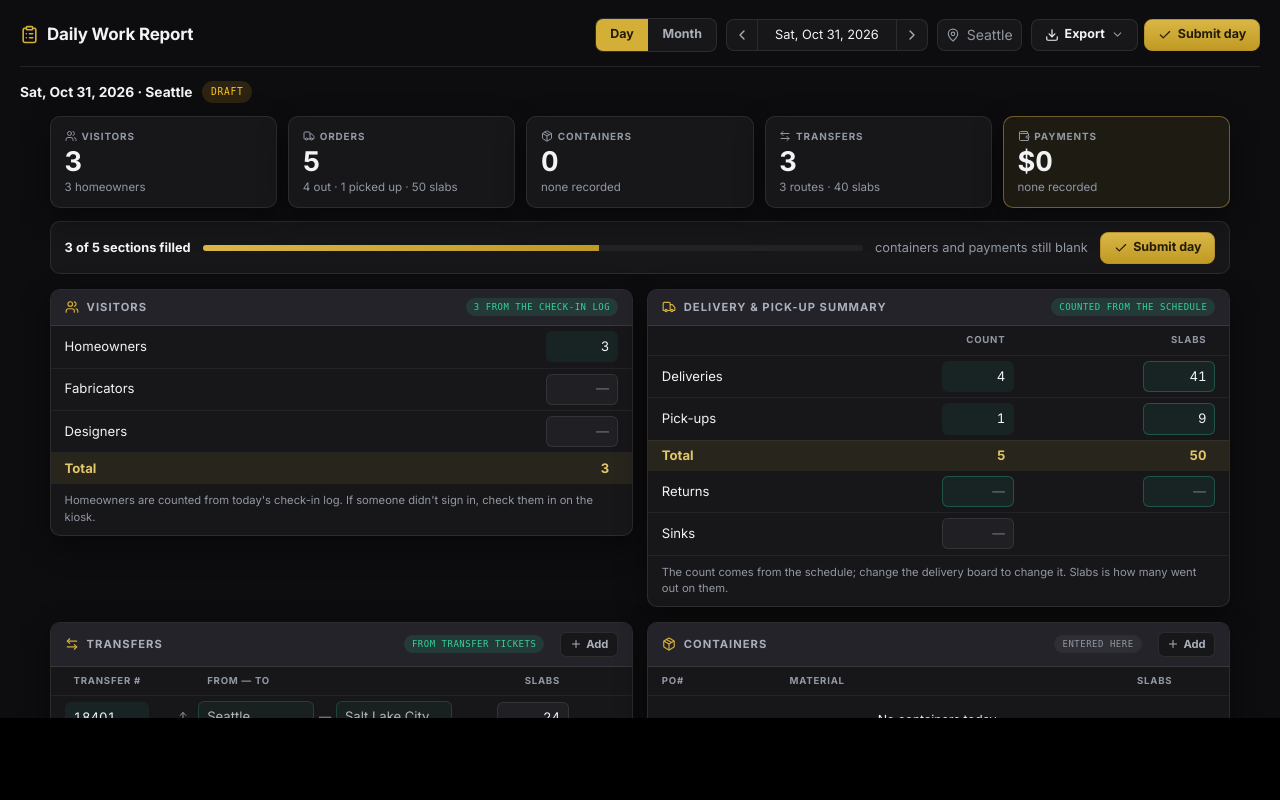
Test: Daily Report saves › Submit does not lock the day when its own save fails (O13)
The image size is (1280, 800).
Type "9" into the field named "Sinks" at (978, 534), box left=942, top=518, right=1014, bottom=550
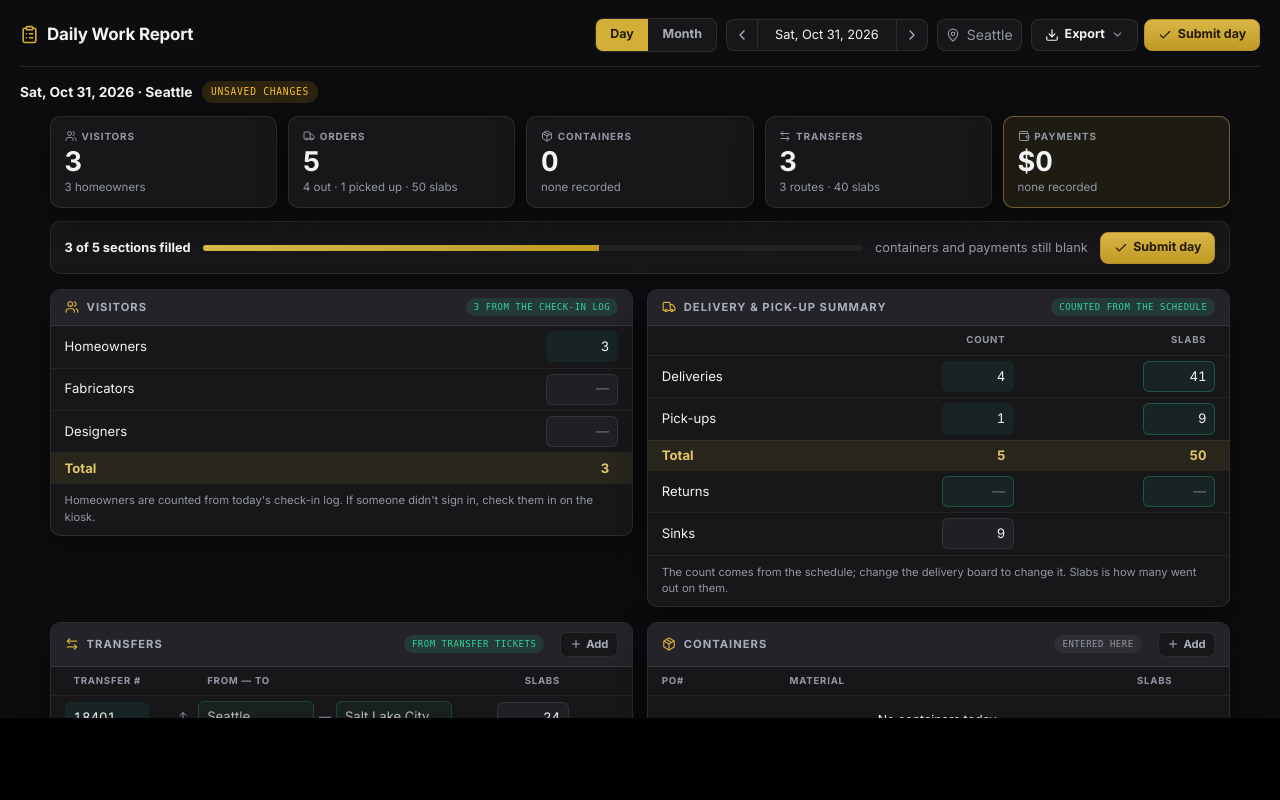
Click the button "Submit day" in the row of "Daily Work Report" at (1202, 35), box left=1144, top=19, right=1260, bottom=51
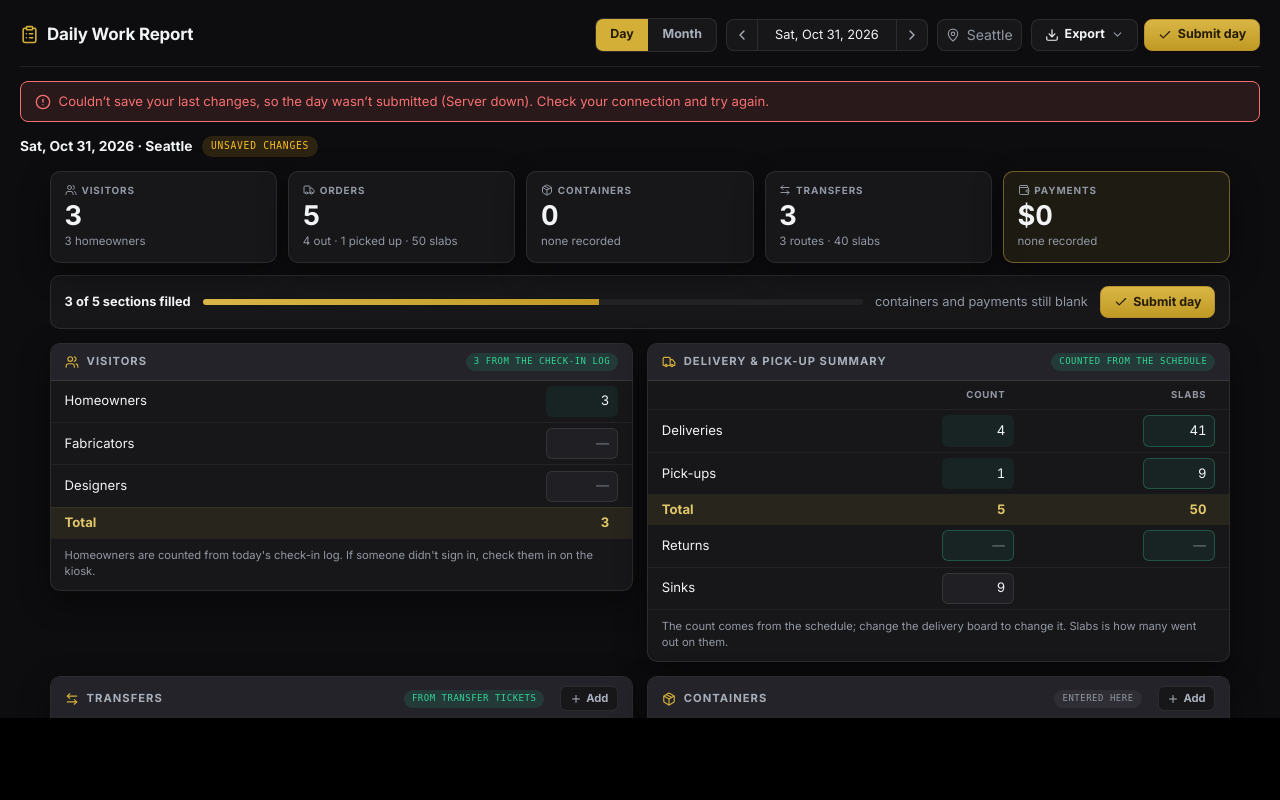
Now the message shows "so the day wasn’t submitted (Server down)", box left=59, top=93, right=769, bottom=109
